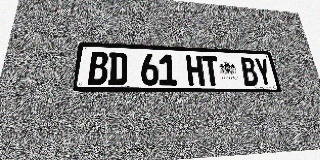1: (158, 54, 177, 85)
6: (141, 53, 159, 85)
B: (88, 51, 109, 85), (239, 57, 259, 86)
D: (108, 52, 127, 85)
H: (186, 55, 205, 86)
T: (202, 56, 221, 86)
Y: (253, 58, 273, 86)
